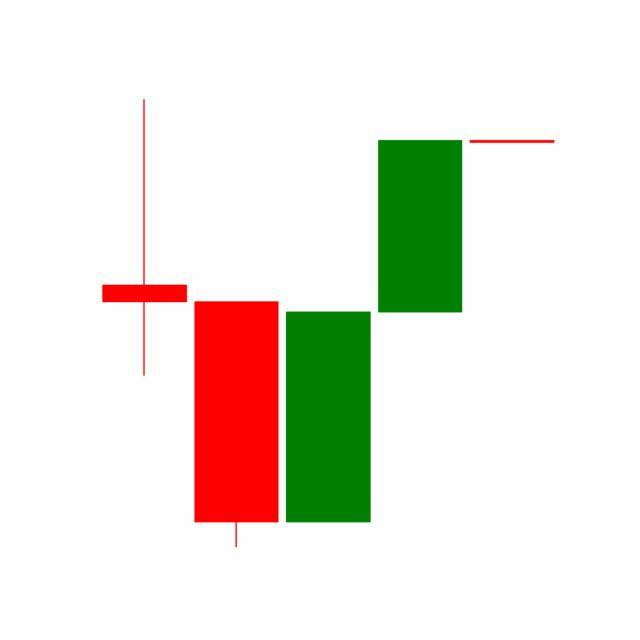Marubozu: (374, 138, 468, 314)
